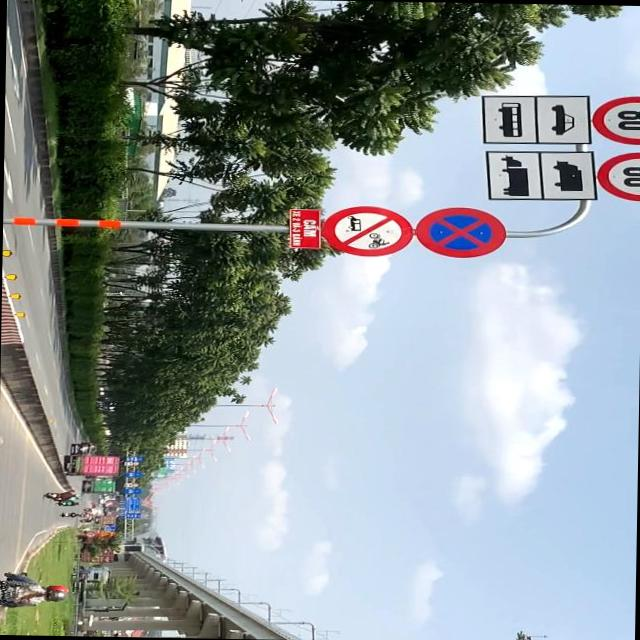P-104: (319, 205, 412, 256)
P-130: (413, 205, 507, 260)
